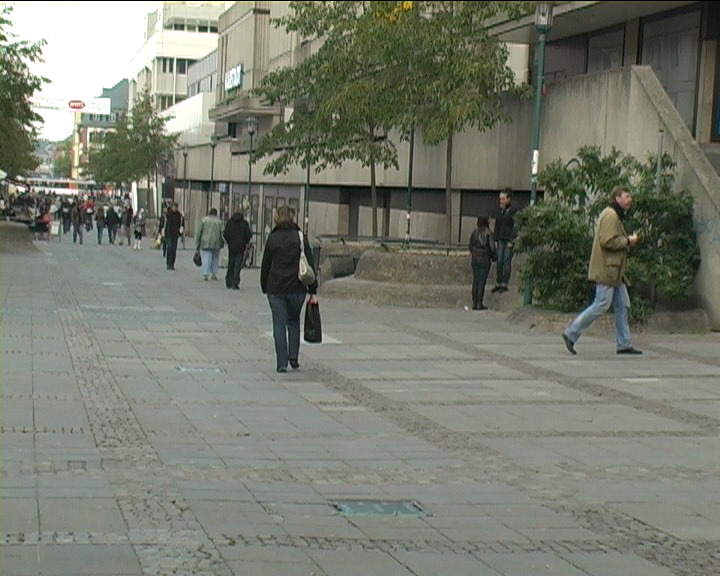undeflect: (597, 186, 639, 242)
